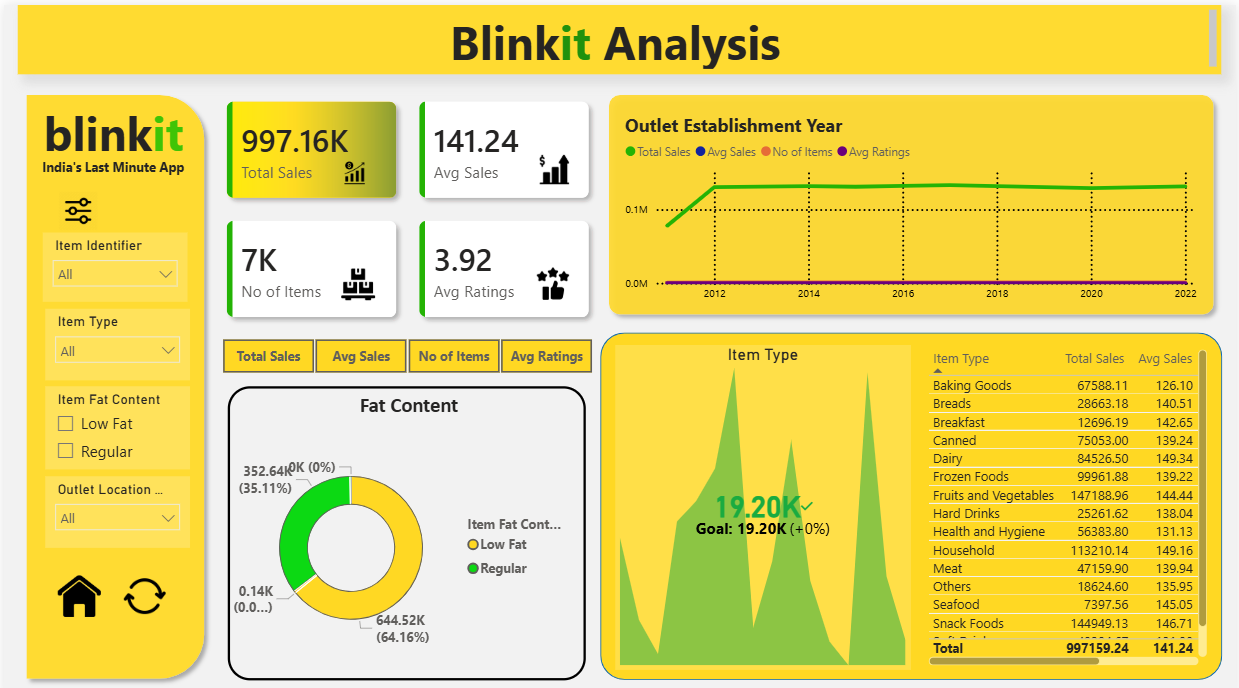

Layout of this report page (visuals, bound fields, positions):
{"tool":"powerbi","page":{"name":"Page 1","canvas":[1280,720],"ordinal":0},"visuals":[{"type":"textbox","box":[14.9,0,1250.5,71.7],"z":0},{"type":"shape","box":[14.9,83.8,202.8,624.6],"z":1000},{"type":"textbox","box":[24.3,94.6,178.5,91.9],"z":2000},{"type":"textbox","box":[33.8,154.1,159.5,32.4],"z":3000},{"type":"cardVisual","fields":{"Data":["BlinkIT Grocery Data.Total Sales","BlinkIT Grocery Data.Avg Sales","BlinkIT Grocery Data.No of Items","BlinkIT Grocery Data.Avg Ratings"]},"box":[202.8,71.7,435.3,283.9],"z":4000},{"type":"slicer","fields":{"Values":["Metrics.Metrics"]},"box":[201.4,340.7,434,48.7],"z":5000},{"type":"shape","box":[619.2,83.8,646.2,246.1],"z":6000},{"type":"lineChart","title":"Outlet Establishment Year","fields":{"Y":["BlinkIT Grocery Data.Total Sales","BlinkIT Grocery Data.Avg Sales","BlinkIT Grocery Data.No of Items","BlinkIT Grocery Data.Avg Ratings"],"Category":["BlinkIT Grocery Data.Outlet Establishment Year"]},"box":[640.8,112.2,604.3,205.5],"z":7000},{"type":"slicer","fields":{"Values":["BlinkIT Grocery Data.Item Identifier"]},"box":[40.6,236.6,150.1,71.7],"z":8000},{"type":"slicer","fields":{"Values":["BlinkIT Grocery Data.Item Type"]},"box":[43.3,315,150.1,74.4],"z":9000},{"type":"slicer","fields":{"Values":["BlinkIT Grocery Data.Item Fat Content"]},"box":[43.3,396.1,150.1,86.5],"z":10000},{"type":"slicer","fields":{"Values":["BlinkIT Grocery Data.Outlet Location Type"]},"box":[43.3,489.4,150.1,74.4],"z":11000},{"type":"image","box":[55.4,586.7,44.6,54.1],"z":12000},{"type":"image","box":[113.6,586.7,66.2,54.1],"z":13000},{"type":"image","box":[41.9,193.3,71.7,40.6],"z":14000},{"type":"image","box":[331.2,162.2,66.2,24.3],"z":15000},{"type":"donutChart","title":"Fat Content","fields":{"Y":["BlinkIT Grocery Data.Total Sales","BlinkIT Grocery Data.Avg Sales","BlinkIT Grocery Data.No of Items","BlinkIT Grocery Data.Avg Ratings"],"Category":["BlinkIT Grocery Data.Item Fat Content"]},"box":[232.5,396.1,371.8,305.5],"z":16000},{"type":"image","box":[540.8,154.1,63.5,32.4],"z":17000},{"type":"image","box":[331.2,273.1,73,35.2],"z":18000},{"type":"image","box":[551.6,273.1,36.5,33.8],"z":19000},{"type":"shape","box":[619.2,340.7,646.2,361],"z":20000},{"type":"kpi","title":"Item Type","fields":{"Indicator":["BlinkIT Grocery Data.Total Sales"],"Goal":["Sum(BlinkIT Grocery Data.Sales)"],"TrendLine":["BlinkIT Grocery Data.Item Type"]},"box":[635.4,352.9,306.9,338],"z":21000},{"type":"tableEx","fields":{"Values":["BlinkIT Grocery Data.Item Type","BlinkIT Grocery Data.Total Sales","BlinkIT Grocery Data.Avg Sales","BlinkIT Grocery Data.No of Items","BlinkIT Grocery Data.Avg Ratings"]},"box":[954.5,352.9,300.1,338],"z":22000}]}

Visuals, with their boxes in screenshot pixels (x1, y1, x2, y2), scaled from the page's 1280x720 canvas onto the 1239x688 screenshot:
textbox: [left=14, top=0, right=1225, bottom=69]
shape: [left=14, top=80, right=211, bottom=677]
textbox: [left=24, top=90, right=196, bottom=178]
textbox: [left=33, top=147, right=187, bottom=178]
cardVisual - BlinkIT Grocery Data.Total Sales x BlinkIT Grocery Data.Avg Sales: [left=196, top=69, right=618, bottom=340]
slicer - Metrics.Metrics: [left=195, top=326, right=615, bottom=372]
shape: [left=599, top=80, right=1225, bottom=315]
"Outlet Establishment Year" lineChart: [left=620, top=107, right=1205, bottom=304]
slicer - BlinkIT Grocery Data.Item Identifier: [left=39, top=226, right=185, bottom=295]
slicer - BlinkIT Grocery Data.Item Type: [left=42, top=301, right=187, bottom=372]
slicer - BlinkIT Grocery Data.Item Fat Content: [left=42, top=378, right=187, bottom=461]
slicer - BlinkIT Grocery Data.Outlet Location Type: [left=42, top=468, right=187, bottom=539]
image: [left=54, top=561, right=97, bottom=612]
image: [left=110, top=561, right=174, bottom=612]
image: [left=41, top=185, right=110, bottom=224]
image: [left=321, top=155, right=385, bottom=178]
"Fat Content" donutChart: [left=225, top=378, right=585, bottom=670]
image: [left=523, top=147, right=585, bottom=178]
image: [left=321, top=261, right=391, bottom=295]
image: [left=534, top=261, right=569, bottom=293]
shape: [left=599, top=326, right=1225, bottom=671]
"Item Type" kpi: [left=615, top=337, right=912, bottom=660]
tableEx - BlinkIT Grocery Data.Item Type x BlinkIT Grocery Data.Total Sales: [left=924, top=337, right=1214, bottom=660]
